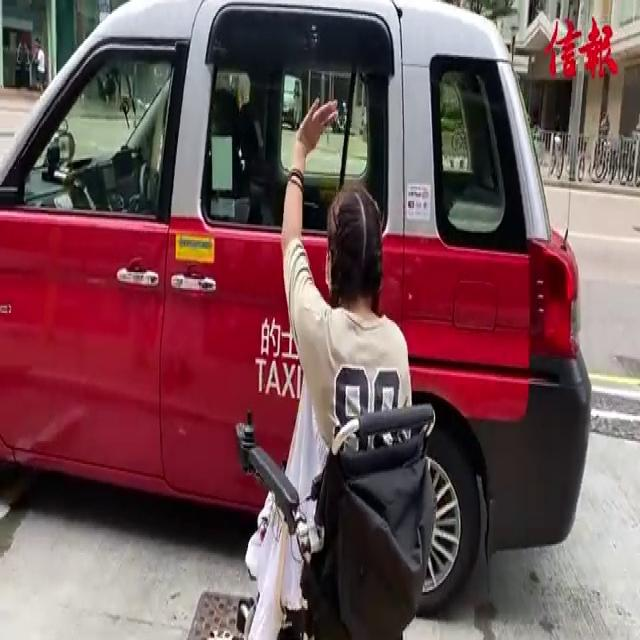wheelchairs: (215, 354, 436, 640)
